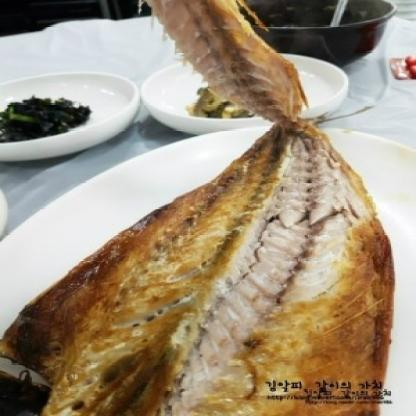Peixe: (0, 129, 388, 416), (139, 0, 304, 130)
